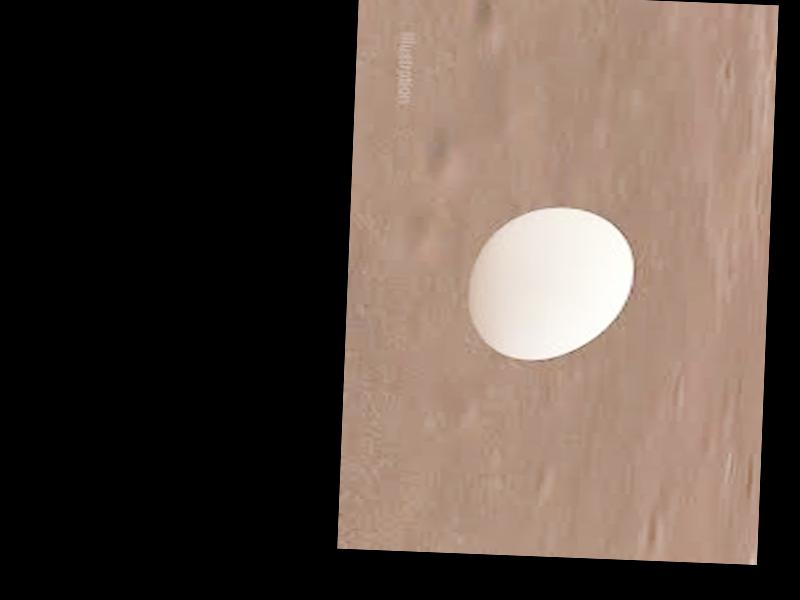Eggs: (466, 203, 635, 365)
